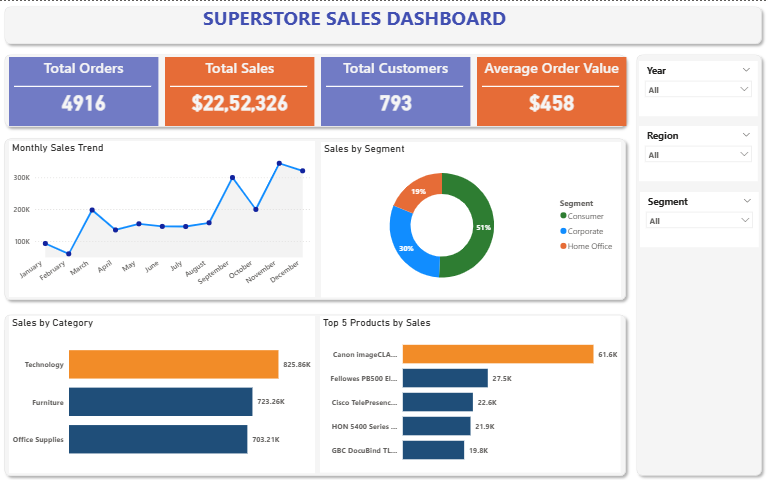

The dashboard page shown, as its layout file describes it:
{"tool":"powerbi","page":{"name":"Overview","canvas":[1280,800],"ordinal":0},"visuals":[{"type":"shape","box":[0,80.7,1053.1,138.9],"z":0},{"type":"shape","box":[0,0,1280,80.6],"z":1000},{"type":"textbox","box":[334.3,0,542.6,80.6],"z":2000},{"type":"card","title":"Total Orders","fields":{"Values":["superstore_sales_cleaned.Total Orders"]},"box":[16.4,92.6,249,115],"z":3000},{"type":"card","title":"Total Sales","fields":{"Values":["superstore_sales_cleaned.Total Sales"]},"box":[276.2,92.6,249.5,115],"z":4000},{"type":"card","title":"Total Customers","fields":{"Values":["superstore_sales_cleaned.Total Customers"]},"box":[536.4,92.6,249,115],"z":5000},{"type":"card","title":"Average Order Value","fields":{"Values":["superstore_sales_cleaned.Avg Order_Value"]},"box":[796.2,92.6,249,115],"z":6000},{"type":"shape","box":[25.4,132.9,228.5,17.9],"z":7000},{"type":"shape","box":[285.3,132.9,228.5,17.9],"z":8000},{"type":"shape","box":[545.2,132.9,228.5,17.9],"z":9000},{"type":"shape","box":[805.1,132.9,228.5,17.9],"z":10000},{"type":"shape","box":[0,220,1053.8,287.5],"z":11000},{"type":"lineChart","title":"Monthly Sales Trend","fields":{"Category":["superstore_sales_cleaned.Order_Date.Variation.Date Hierarchy.Month"],"Y":["superstore_sales_cleaned.Total Sales"]},"box":[16.2,233.8,510,260],"z":12000},{"type":"donutChart","title":"Sales by Segment","fields":{"Category":["superstore_sales_cleaned.Segment"],"Y":["superstore_sales_cleaned.Total Sales"]},"box":[536.2,235,500,258.8],"z":13000},{"type":"shape","box":[0,512.5,1053.8,287.5],"z":14000},{"type":"barChart","title":"Sales by Category","fields":{"Category":["superstore_sales_cleaned.Category"],"Y":["superstore_sales_cleaned.Total Sales"]},"box":[16.7,525,510,261.7],"z":15000},{"type":"barChart","title":"Top 5 Products by Sales","fields":{"Category":["superstore_sales_cleaned.Product_Name"],"Y":["superstore_sales_cleaned.Total Sales"]},"box":[535.5,525.5,500.9,260.9],"z":16000},{"type":"shape","box":[1053.3,80,226.7,720],"z":17000},{"type":"slicer","fields":{"Values":["superstore_sales_cleaned.Order_Date.Variation.Date Hierarchy.Year"]},"box":[1067,100,198,92],"z":18000},{"type":"slicer","fields":{"Values":["superstore_sales_cleaned.Region"]},"box":[1067,208,198,92],"z":19000},{"type":"slicer","fields":{"Values":["superstore_sales_cleaned.Segment"]},"box":[1068,318,198,92],"z":20000}]}

Visuals, with their boxes in screenshot pixels (x1, y1, x2, y2), scaled from the page's 1280x800 canvas onto the 767x480 screenshot:
shape: detection(0, 48, 631, 132)
shape: detection(0, 0, 766, 48)
textbox: detection(200, 0, 525, 48)
"Total Orders" card: detection(10, 56, 159, 125)
"Total Sales" card: detection(166, 56, 315, 125)
"Total Customers" card: detection(321, 56, 471, 125)
"Average Order Value" card: detection(477, 56, 626, 125)
shape: detection(15, 80, 152, 90)
shape: detection(171, 80, 308, 90)
shape: detection(327, 80, 464, 90)
shape: detection(482, 80, 619, 90)
shape: detection(0, 132, 631, 304)
"Monthly Sales Trend" lineChart: detection(10, 140, 315, 296)
"Sales by Segment" donutChart: detection(321, 141, 621, 296)
shape: detection(0, 308, 631, 479)
"Sales by Category" barChart: detection(10, 315, 316, 472)
"Top 5 Products by Sales" barChart: detection(321, 315, 621, 472)
shape: detection(631, 48, 766, 479)
slicer - superstore_sales_cleaned.Order_Date.Variation.Date Hierarchy.Year: detection(639, 60, 758, 115)
slicer - superstore_sales_cleaned.Region: detection(639, 125, 758, 180)
slicer - superstore_sales_cleaned.Segment: detection(640, 191, 759, 246)
